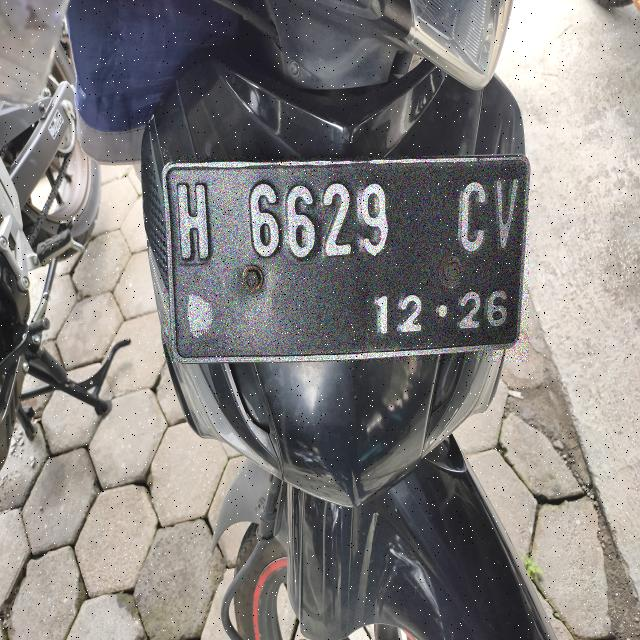plate: (164, 157, 528, 361)
